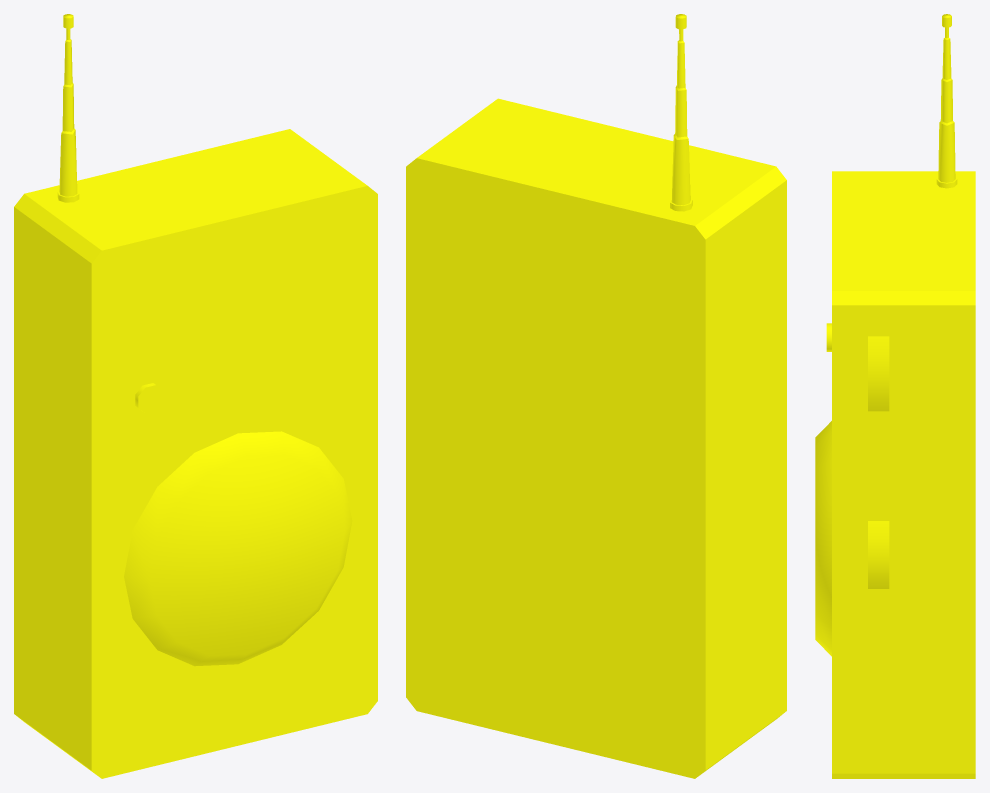
Rendered from handheld_fm_radio.glb.
The picture shows the model from 3 angles, left to right: view 1: azimuth 30°, elevation 25°; view 2: azimuth 150°, elevation 25°; view 3: azimuth 270°, elevation 25°; orthographic projection. The views are drawn at different scales.
Parts seen in each view (by area): view 1: handheld_fm_radio_etx_1; view 2: handheld_fm_radio_etx_1; view 3: handheld_fm_radio_etx_1.
Boxes of the visible parts, x1,y1,x2,y2 form: handheld_fm_radio_etx_1: [14, 14, 377, 778]; handheld_fm_radio_etx_1: [406, 14, 786, 778]; handheld_fm_radio_etx_1: [815, 14, 975, 778].
Bounding box in the file's own units: 0.177 × 0.4033 × 0.0894.
Materials: 1 (1 with a texture image).
